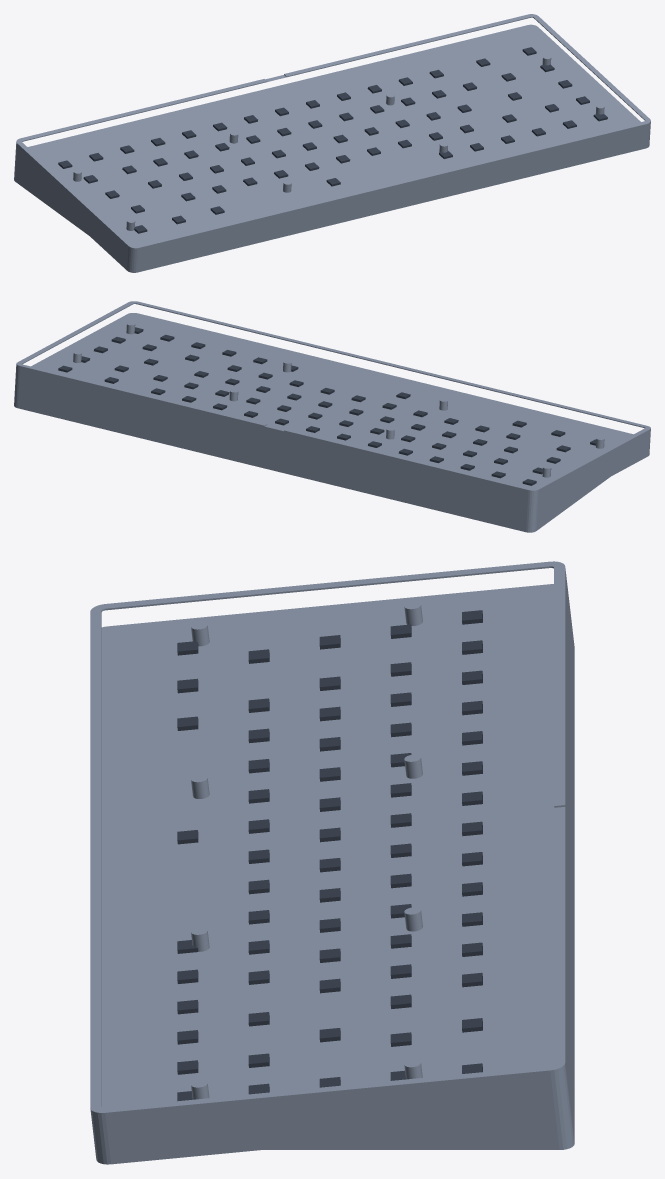
Rendered from reference-65.glb.
3 views of the same model, one above another, from view 1: azimuth 30°, elevation 25°; view 2: azimuth 150°, elevation 25°; view 3: azimuth 270°, elevation 25° (orthographic). The views are drawn at different scales.
Parts seen in each view (by area): view 1: bottomCase/case-bottom, switches/switches, topCase/case-top; view 2: bottomCase/case-bottom, switches/switches, topCase/case-top; view 3: bottomCase/case-bottom, switches/switches, topCase/case-top.
Part boxes in pixels (x1,y1,x2,y2): bottomCase/case-bottom: [14, 14, 650, 265]; switches/switches: [58, 47, 607, 233]; topCase/case-top: [15, 137, 649, 272]; bottomCase/case-bottom: [14, 301, 650, 532]; switches/switches: [58, 327, 596, 485]; topCase/case-top: [15, 382, 649, 517]; bottomCase/case-bottom: [90, 561, 574, 1149]; switches/switches: [177, 610, 482, 1101]; topCase/case-top: [94, 1098, 565, 1164].
Bounding box in the file's own units: 1.05e+07 × 978988 × 4228685.
